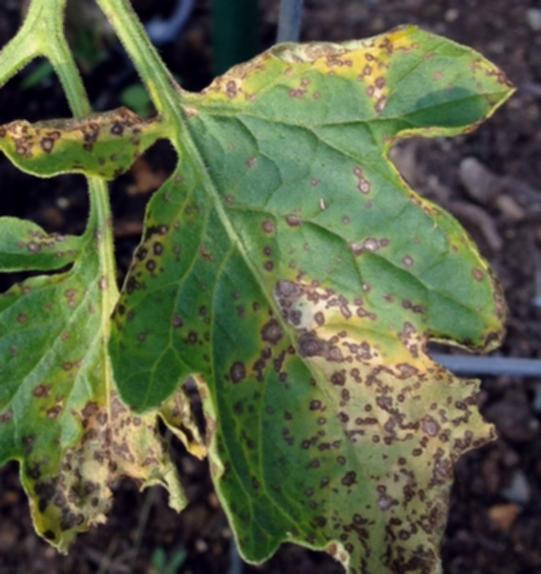Tomato Septoria leaf spot: (0, 9, 527, 574), (0, 207, 242, 569)
